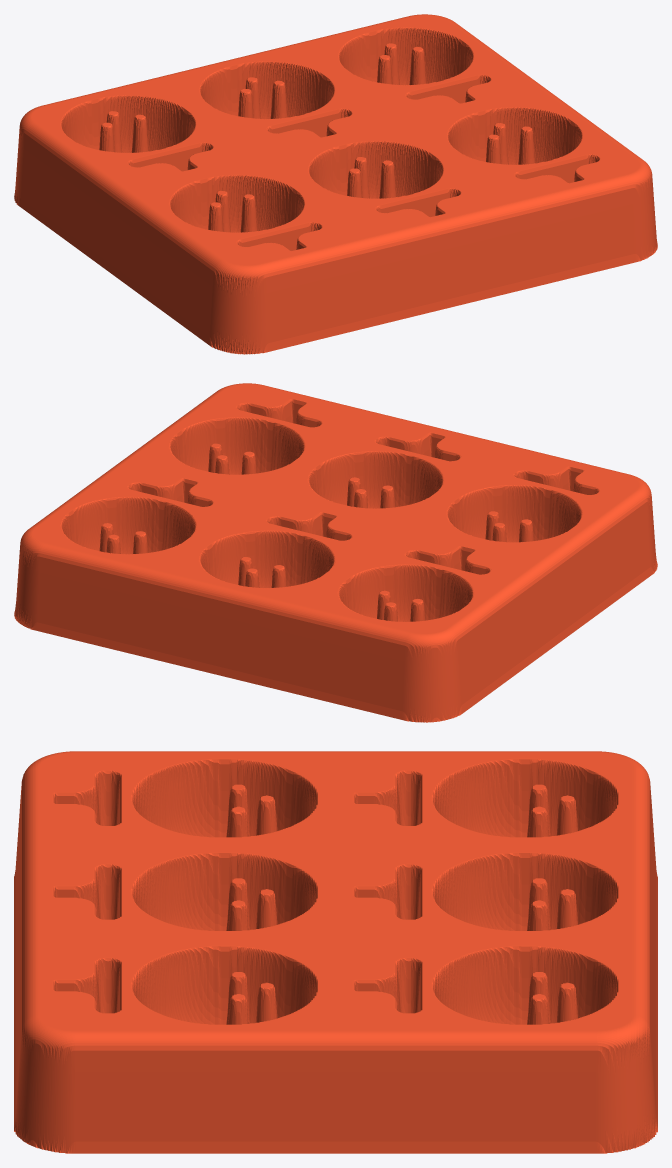
Rendered from mold.glb.
3 renders of one model, top to bottom at view 1: azimuth 30°, elevation 25°; view 2: azimuth 150°, elevation 25°; view 3: azimuth 270°, elevation 25°, orthographic. The views are drawn at different scales.
Visible parts, largest first — view 1: geometry_0; view 2: geometry_0; view 3: geometry_0.
Part boxes in pixels (x1,y1,x2,y2): geometry_0: [14, 14, 657, 354]; geometry_0: [14, 383, 657, 722]; geometry_0: [14, 751, 657, 1153].
Size of the model in its own units: 0.104 by 0.0182 by 0.0947.
